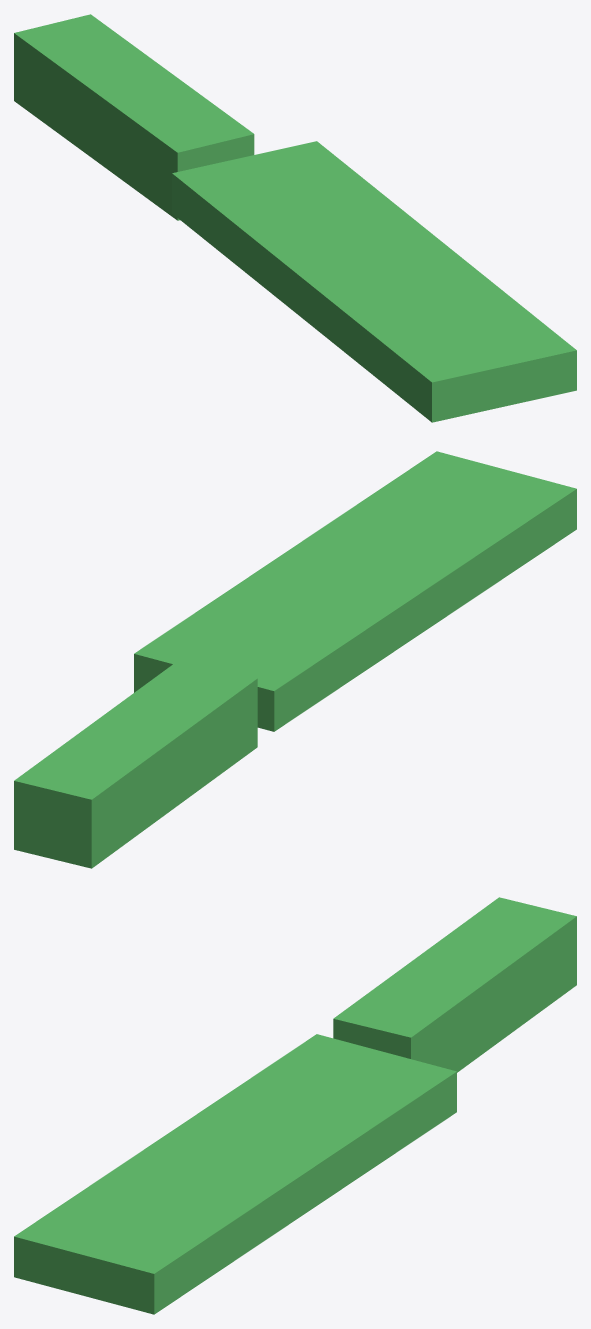
Rendered from kopis_heavy_collision.glb.
3 renders of one model, top to bottom at view 1: azimuth 30°, elevation 25°; view 2: azimuth 150°, elevation 25°; view 3: azimuth 330°, elevation 25°, orthographic.
Visible parts, largest first — view 1: kopis_heavy-col-blade, kopis_heavy-col-grip; view 2: kopis_heavy-col-blade, kopis_heavy-col-grip; view 3: kopis_heavy-col-blade, kopis_heavy-col-grip.
Boxes of the visible parts, x1,y1,x2,y2 form: kopis_heavy-col-blade: [172, 141, 576, 422]; kopis_heavy-col-grip: [14, 14, 254, 220]; kopis_heavy-col-blade: [134, 451, 576, 731]; kopis_heavy-col-grip: [14, 659, 257, 868]; kopis_heavy-col-blade: [14, 1034, 456, 1314]; kopis_heavy-col-grip: [333, 897, 576, 1072].
Bounding box in the file's own units: 0.2726 × 0.11 × 1.32.
